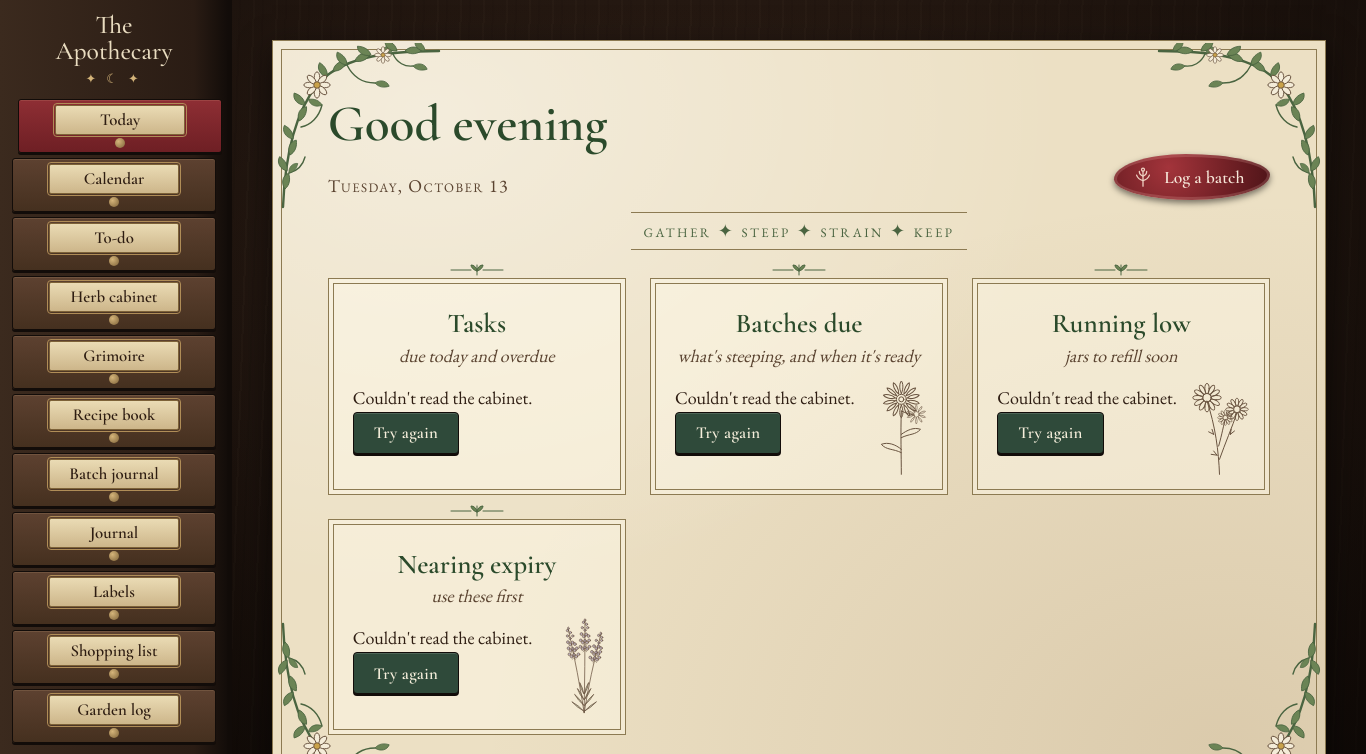
Test case: says so and lets her try again when the cabinet cannot be read
The width and height of the screenshot is (1366, 754).
Click the button "Try again" below "due today and overdue": (406, 433) left=353, top=412, right=459, bottom=454
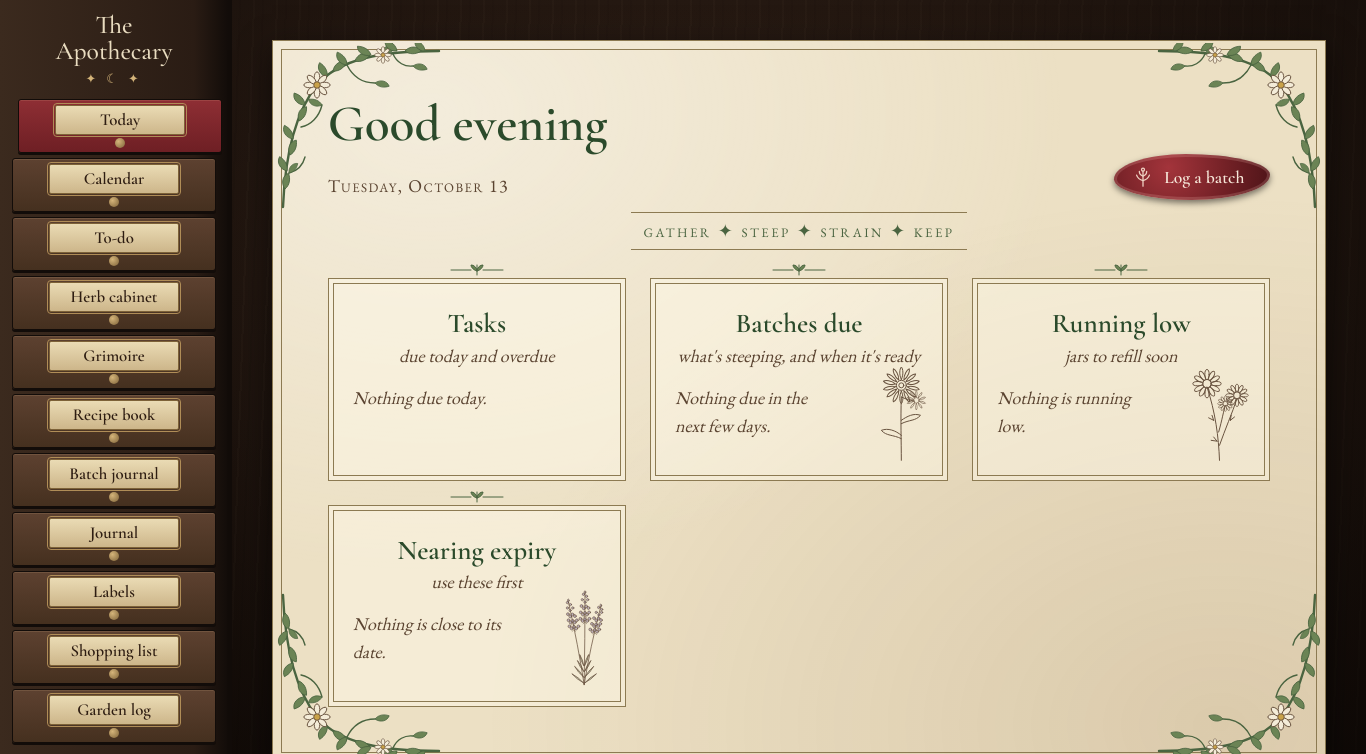
Expected: the text "Nothing is running low." is shown, left=997, top=386, right=1131, bottom=437
